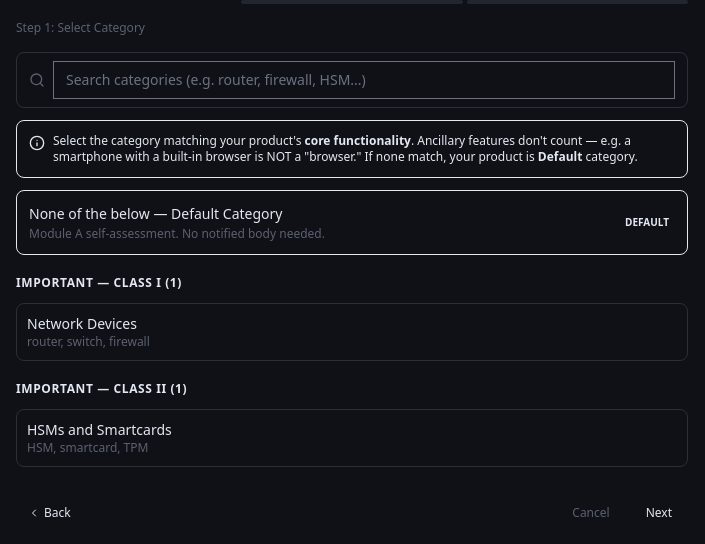
Scenario: CraClassificationWizard › Next button advances from step 1 to step 2
Expected: the text "Step 1: Select Category" is shown, [16,19,145,36]
Click the button "Next": (659, 513) [630,499,688,527]
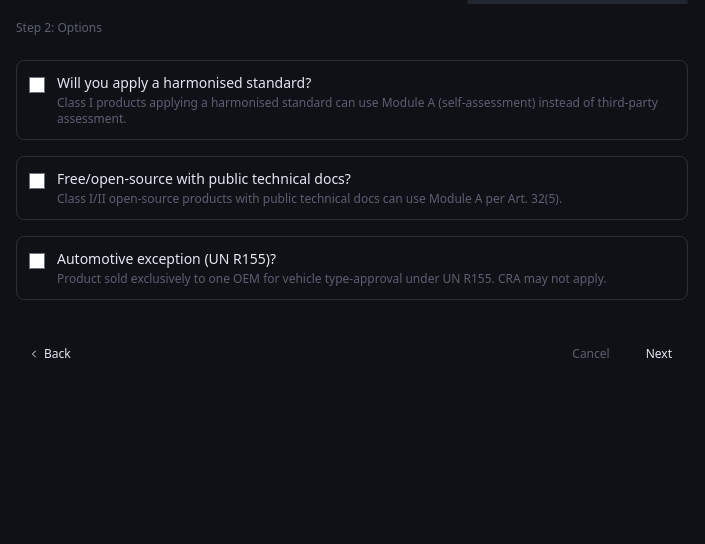
Expected: the text "Step 2: Options" is shown, [16,19,102,36]
